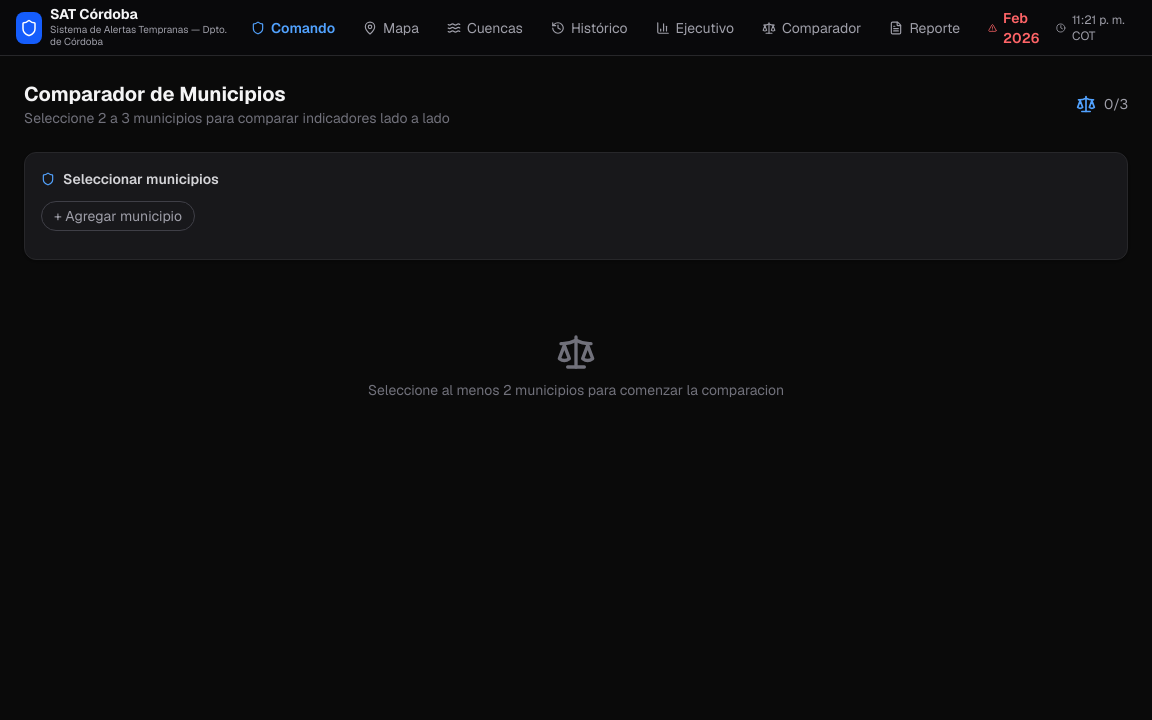
it: ComparadorPage › shows the summary comparison table with all rows
Click the button with test id "add-municipality-btn".
click(118, 216)  # box [41, 201, 195, 231]
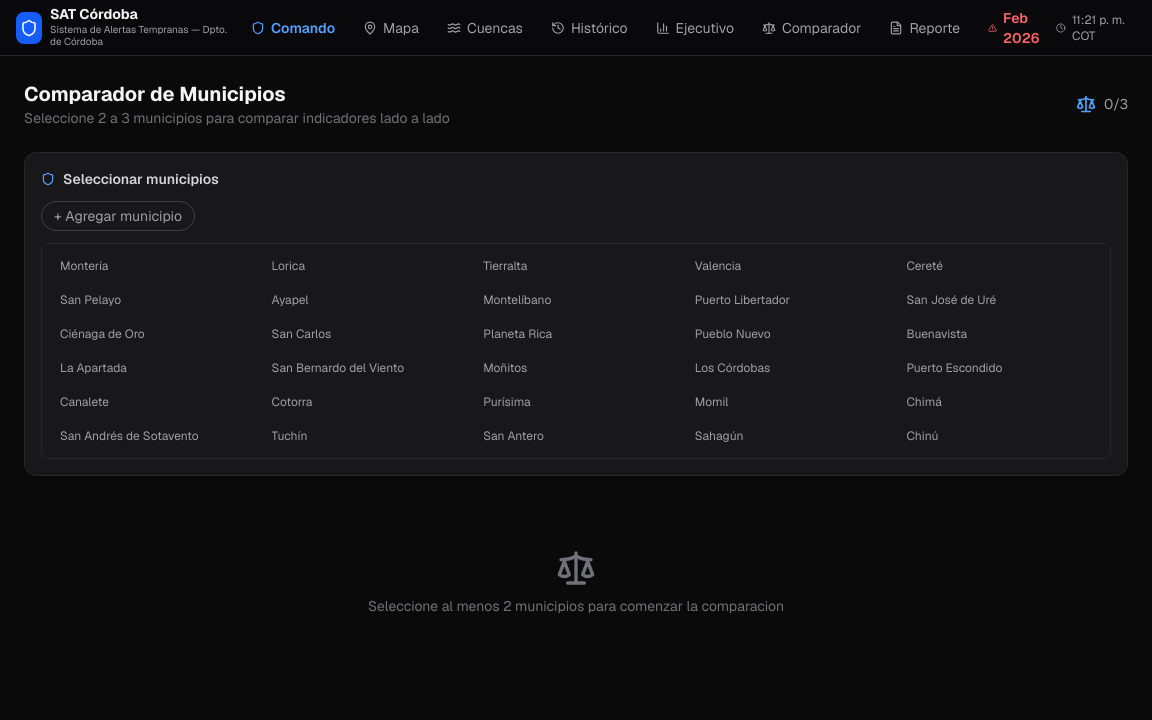
Click the button "Montería".
click(153, 266)  # box [50, 252, 256, 280]
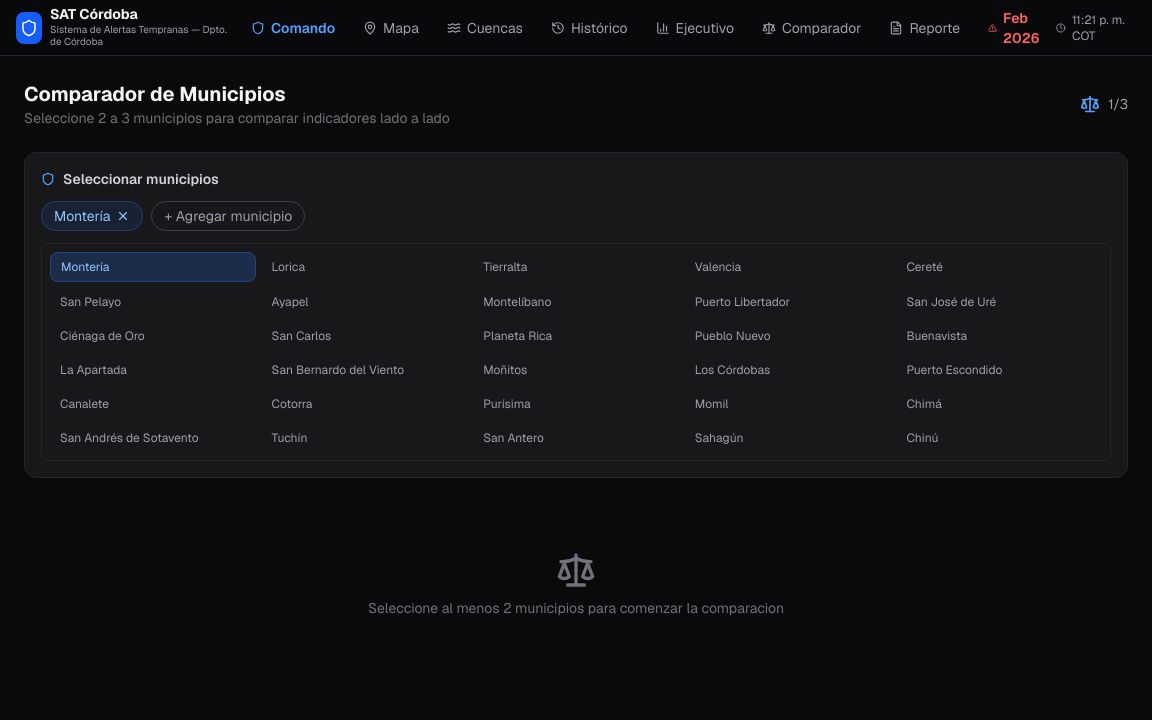
Click the button "Lorica".
click(364, 267)  # box [262, 252, 467, 282]
(page scrolled)
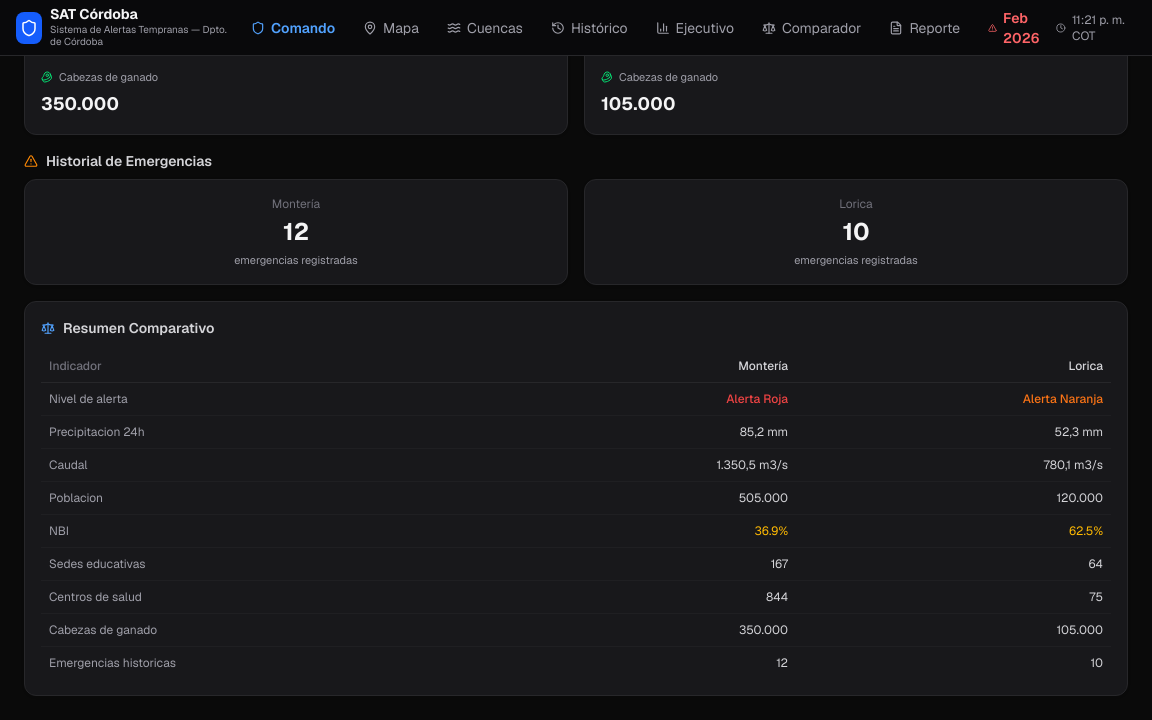
Check: the table with test id "comparison-table" is shown, box [41, 350, 1111, 679]
Check: the cell "Nivel de alerta" is shown, box [41, 382, 509, 416]
Check: the cell "Precipitacion 24h" is shown, box [41, 416, 509, 448]
